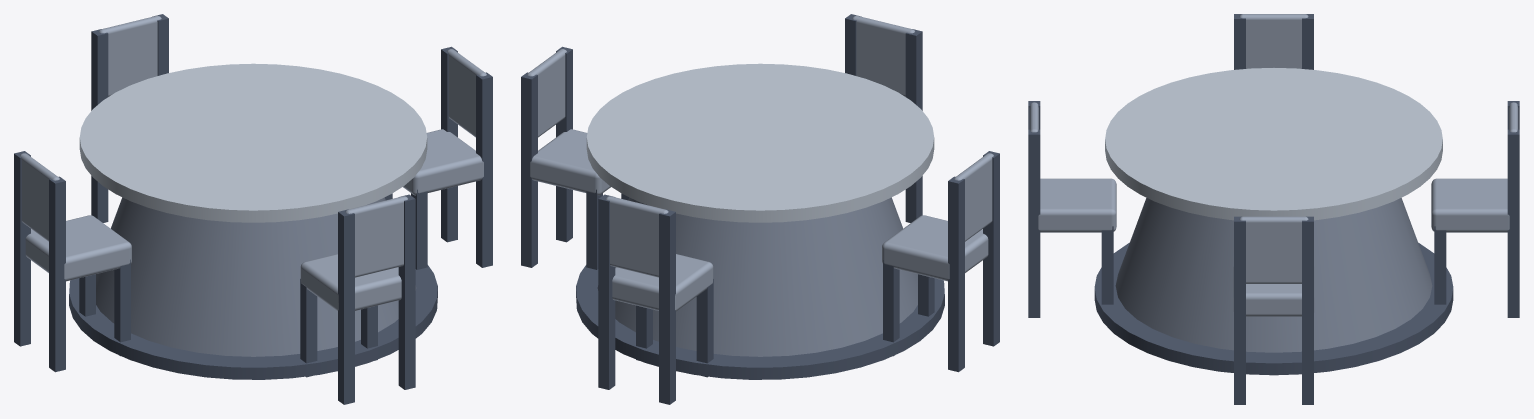
File: rounddiningtable.glb
3 views of the same model, side by side, from view 1: azimuth 30°, elevation 25°; view 2: azimuth 150°, elevation 25°; view 3: azimuth 270°, elevation 25° (orthographic). The views are drawn at different scales.
Parts seen in each view (by area): view 1: rounddiningtable; view 2: rounddiningtable; view 3: rounddiningtable.
Part boxes in pixels (x1=…): rounddiningtable: x1=14, y1=14, x2=492, y2=404; rounddiningtable: x1=521, y1=14, x2=999, y2=404; rounddiningtable: x1=1028, y1=14, x2=1519, y2=404.
Size of the model in its own units: 2.05 by 0.8522 by 2.05.
